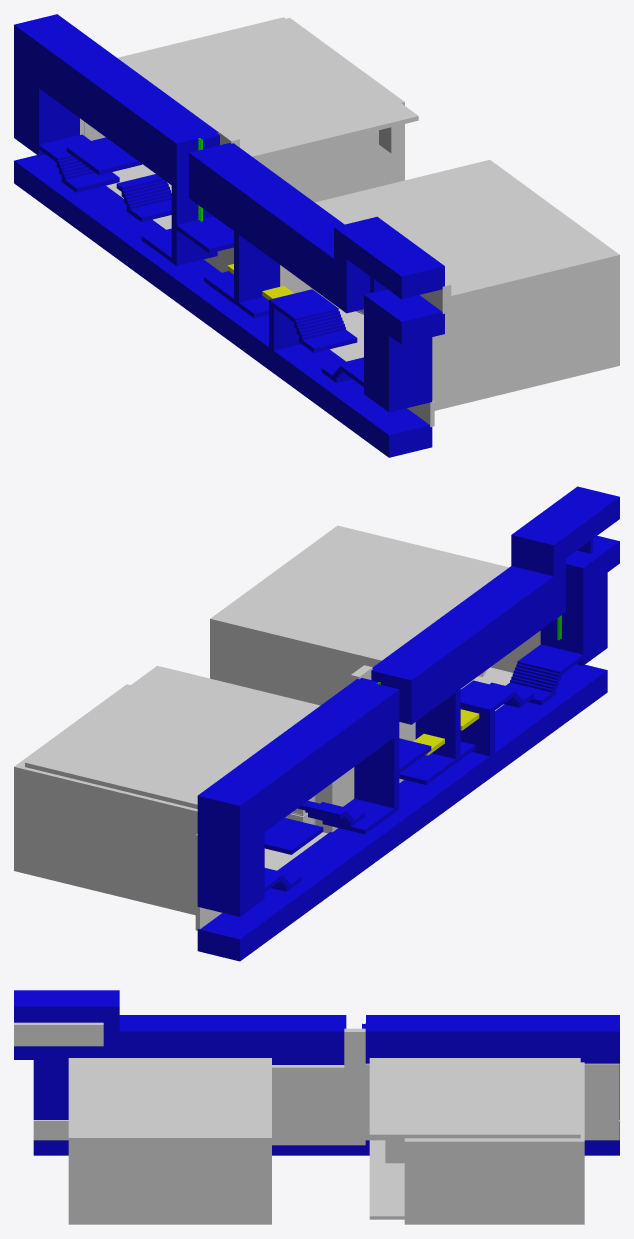
The model's file is Level_3_scene18_colored_bg.fbx.
3 renders of one model, top to bottom at view 1: azimuth 30°, elevation 25°; view 2: azimuth 150°, elevation 25°; view 3: azimuth 270°, elevation 25°, orthographic. The views are drawn at different scales.
Visible parts, largest first — view 1: Cube.015, Cube.197, Cube.188, Cube.191, Cube.196, Cube.071, Cube.062, Cube.075, Cube.076, Cube.074, Cube.189, Cube.070 (+2 smaller); view 2: Cube.015, Cube.197, Cube.196, Cube.191, Cube.188, Cube.062, Cube.071, Cube.070, Cube.074, Cube.075, Cube.199, Cube.198 (+1 smaller); view 3: Cube.015, Cube.188, Cube.197, Cube.196, Cube.191, Cube.187, Cube.203, Cube.198, Cube.153, Cube.192, Cube.230, Cube.199 (+1 smaller).
Boxes of the visible parts, x1,y1,x2,y2 form: Cube.015: (14, 14, 444, 457); Cube.197: (117, 17, 418, 159); Cube.188: (284, 159, 619, 410); Cube.191: (315, 162, 610, 300); Cube.196: (84, 18, 404, 202); Cube.071: (269, 289, 357, 352); Cube.062: (204, 231, 279, 317); Cube.075: (116, 174, 171, 222); Cube.076: (39, 134, 119, 192); Cube.074: (66, 137, 142, 175); Cube.189: (330, 304, 610, 405); Cube.070: (321, 357, 363, 386); Cube.015: (197, 486, 619, 961); Cube.197: (25, 665, 320, 808); Cube.196: (14, 684, 334, 915); Cube.191: (220, 529, 508, 660); Cube.188: (210, 525, 540, 705); Cube.062: (399, 689, 475, 784); Cube.071: (460, 680, 534, 756); Cube.070: (505, 644, 583, 705); Cube.074: (264, 818, 323, 854); Cube.075: (298, 801, 364, 827); Cube.199: (333, 767, 354, 830); Cube.198: (264, 832, 327, 870); Cube.015: (14, 990, 619, 1155); Cube.188: (68, 1058, 271, 1224); Cube.197: (369, 1058, 580, 1138); Cube.196: (404, 1062, 584, 1224); Cube.191: (68, 1058, 271, 1134); Cube.187: (272, 1028, 365, 1145); Cube.203: (584, 1063, 619, 1140); Cube.198: (369, 1140, 404, 1219); Cube.153: (14, 1022, 103, 1046); Cube.192: (33, 1120, 68, 1140); Cube.230: (385, 1138, 404, 1163); Cube.199: (365, 1063, 385, 1140).
Size of the model in its own units: 5848 by 4200 by 15504.
